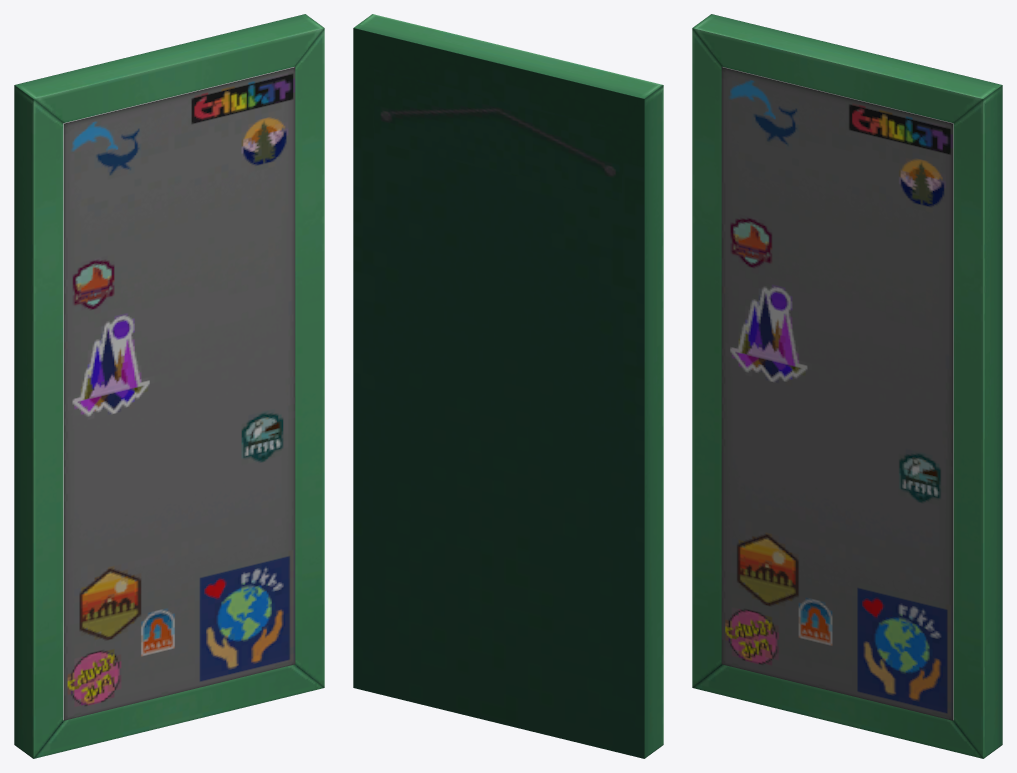
File: espejo.fbx
3 views of the same model, side by side, from view 1: azimuth 30°, elevation 25°; view 2: azimuth 150°, elevation 25°; view 3: azimuth 330°, elevation 25° (orthographic).
Parts seen in each view (by area): view 1: espejo; view 2: espejo; view 3: espejo.
Part boxes in pixels (x1,y1,x2,y2): espejo: (14,14,324,758); espejo: (353,14,663,758); espejo: (692,14,1002,758).
Bounding box in the file's own units: 68.71 × 149 × 8.52.
Materials: 2 (1 with a texture image).
